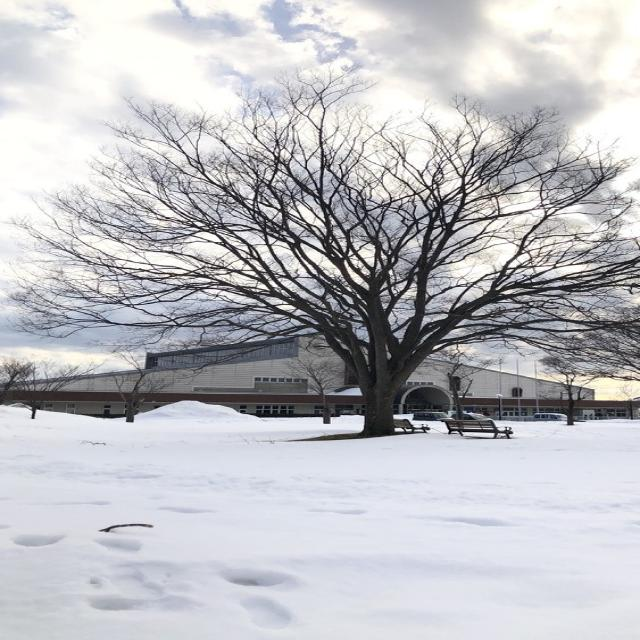zelkova: (2, 62, 640, 435)
